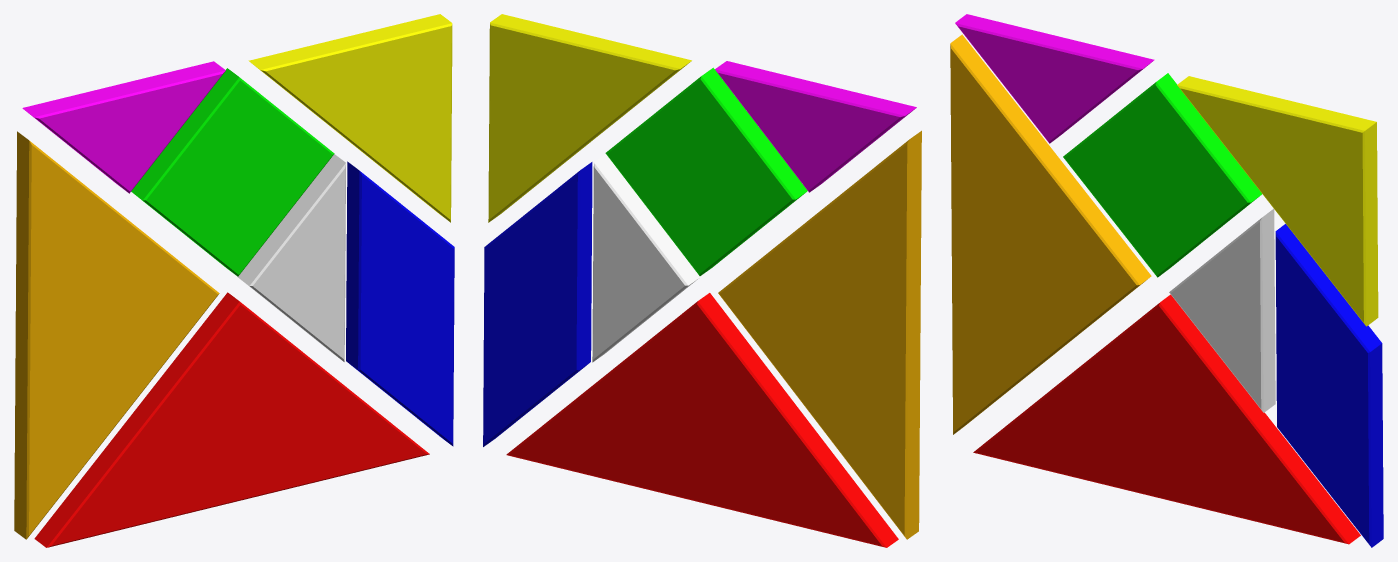
Rendered from Tangram.gltf.
3 renders of one model, left to right at view 1: azimuth 30°, elevation 25°; view 2: azimuth 150°, elevation 25°; view 3: azimuth 330°, elevation 25°, orthographic.
Visible parts, largest first — view 1: piece1, piece7, piece4, piece2, piece5, piece6, piece3; view 2: piece1, piece7, piece4, piece2, piece5, piece3, piece6; view 3: piece1, piece7, piece2, piece4, piece5, piece3, piece6.
Boxes of the visible parts, bbox=[...] form: piece1: bbox=[14, 131, 219, 539]; piece7: bbox=[34, 292, 429, 547]; piece4: bbox=[346, 161, 454, 446]; piece2: bbox=[248, 14, 452, 222]; piece5: bbox=[131, 68, 334, 276]; piece6: bbox=[22, 61, 225, 193]; piece3: bbox=[237, 154, 345, 361]; piece1: bbox=[718, 130, 921, 539]; piece7: bbox=[506, 293, 898, 547]; piece4: bbox=[483, 162, 592, 446]; piece2: bbox=[488, 14, 691, 222]; piece5: bbox=[605, 67, 807, 275]; piece3: bbox=[592, 154, 699, 362]; piece6: bbox=[715, 61, 916, 192]; piece1: bbox=[950, 34, 1151, 434]; piece7: bbox=[973, 294, 1360, 544]; piece2: bbox=[1177, 76, 1378, 326]; piece4: bbox=[1275, 224, 1383, 547]; piece5: bbox=[1063, 73, 1261, 277]; piece3: bbox=[1169, 209, 1275, 412]; piece6: bbox=[955, 14, 1154, 143].
Size of the model in its own units: 4.45 by 4.35 by 0.3051.
